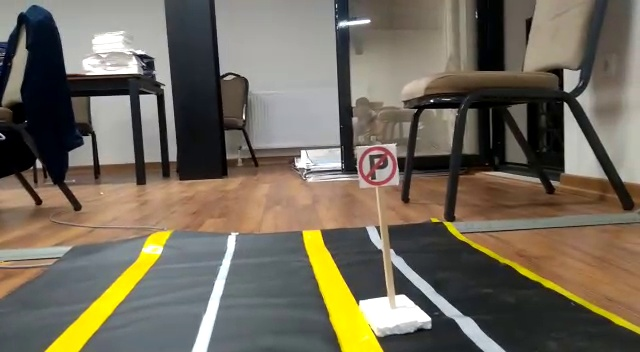park_yapilmaz: (355, 145, 400, 187)
